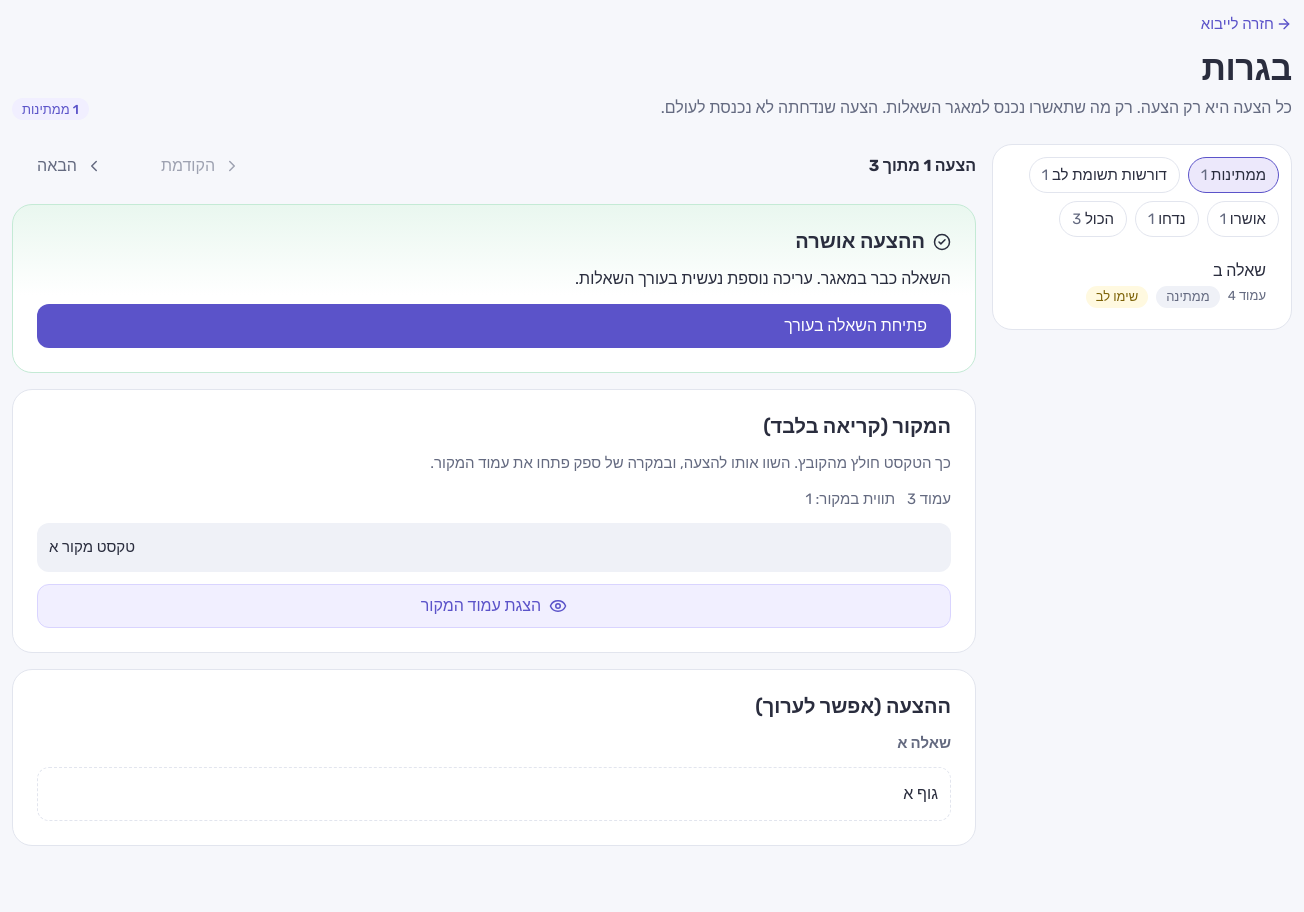
Test: ImportReviewPage › approved and rejected proposals are read-only; approved links to the question
The image size is (1304, 912).
Expected: the heading "ההצעה אושרה" is shown, top-left (795, 229), bottom-right (951, 253)
Click the button "נדחו 1". click: (1167, 219)
box: top-left (1135, 201), bottom-right (1199, 237)
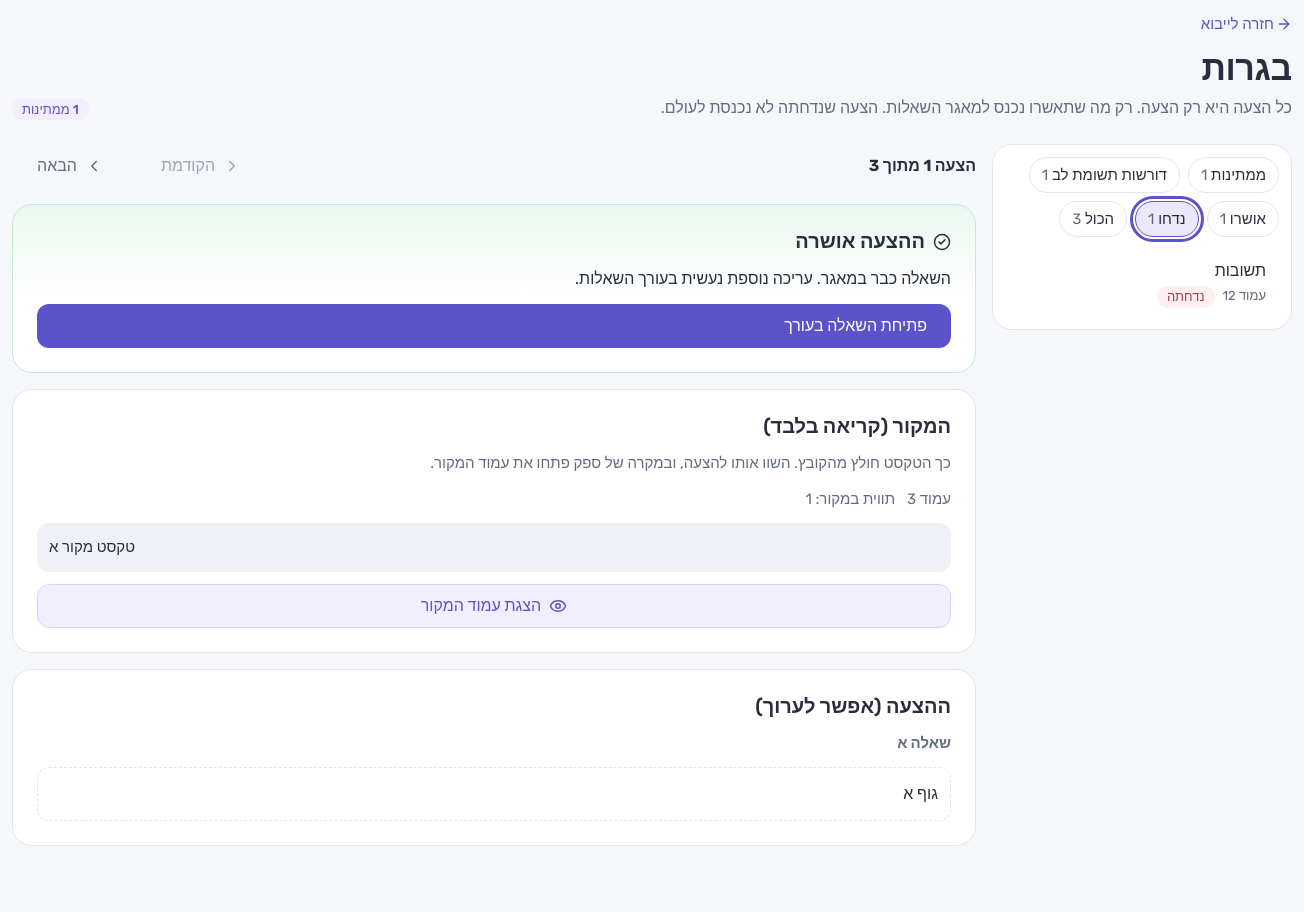
Click the button "תשובות עמוד 12 נדחתה". click: (1240, 271)
box: top-left (1005, 249), bottom-right (1279, 317)
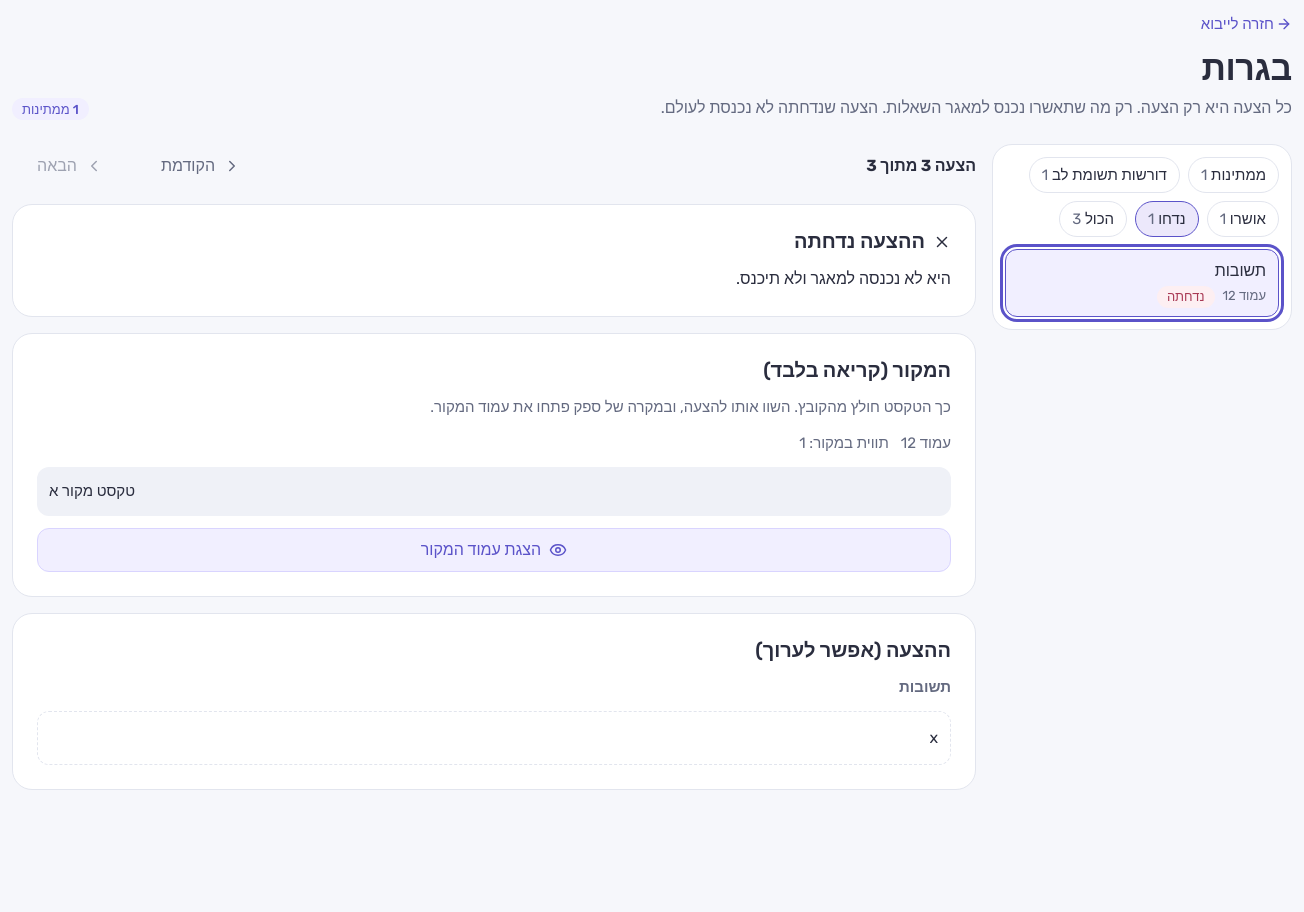
Result: the heading "ההצעה נדחתה" is shown at top-left (794, 229), bottom-right (951, 253)
